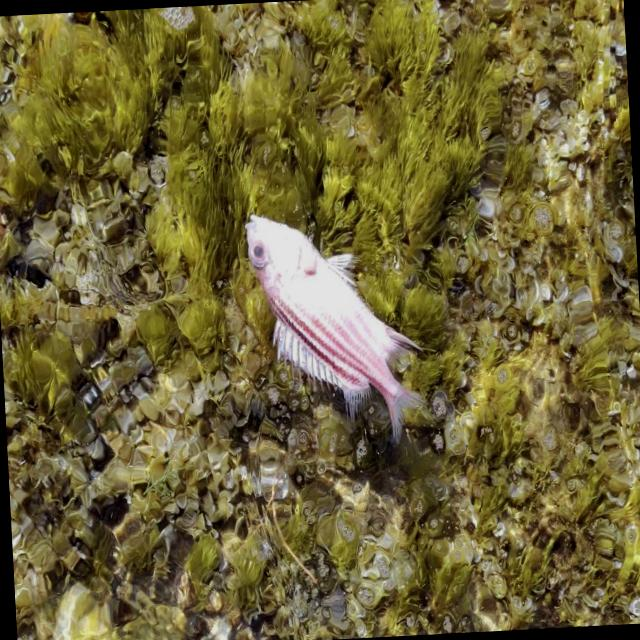Asker Baligi: (242, 202, 430, 453)
